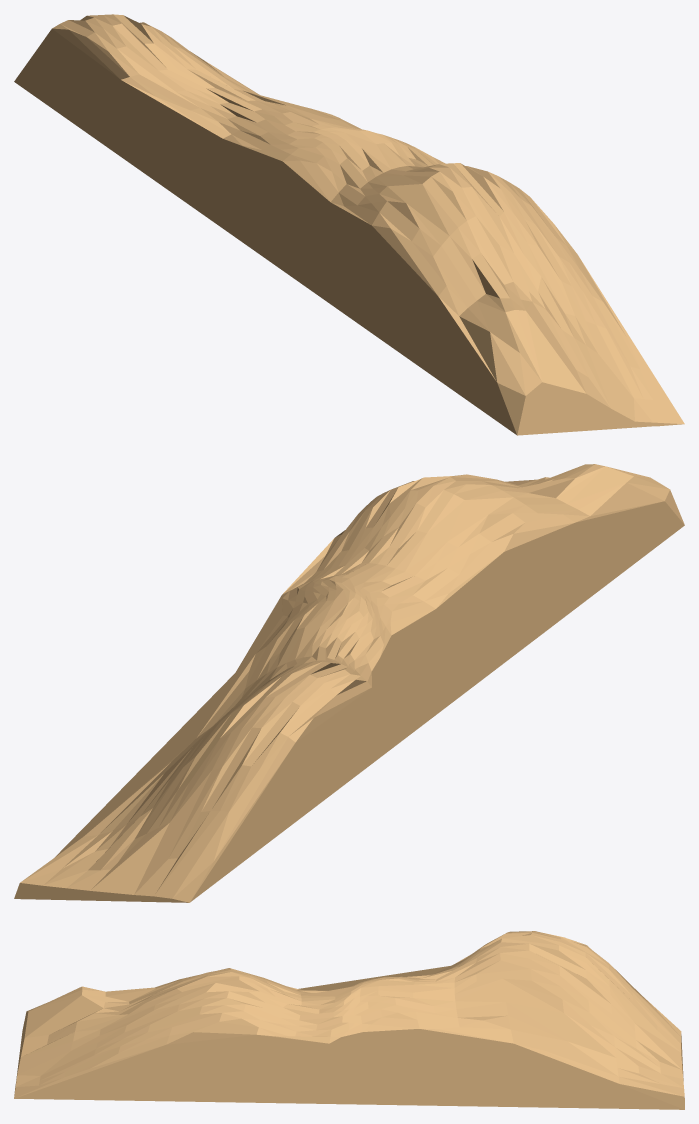
The model's file is sandbackdrop.glb.
3 views of the same model, one above another, from view 1: azimuth 30°, elevation 25°; view 2: azimuth 150°, elevation 25°; view 3: azimuth 270°, elevation 25° (orthographic). The views are drawn at different scales.
Parts seen in each view (by area): view 1: Cube; view 2: Cube; view 3: Cube.
Part boxes in pixels (x1,y1,x2,y2): Cube: (14,14,684,435); Cube: (14,464,684,902); Cube: (14,931,684,1109).
Size of the model in its own units: 27.17 by 21.56 by 111.
